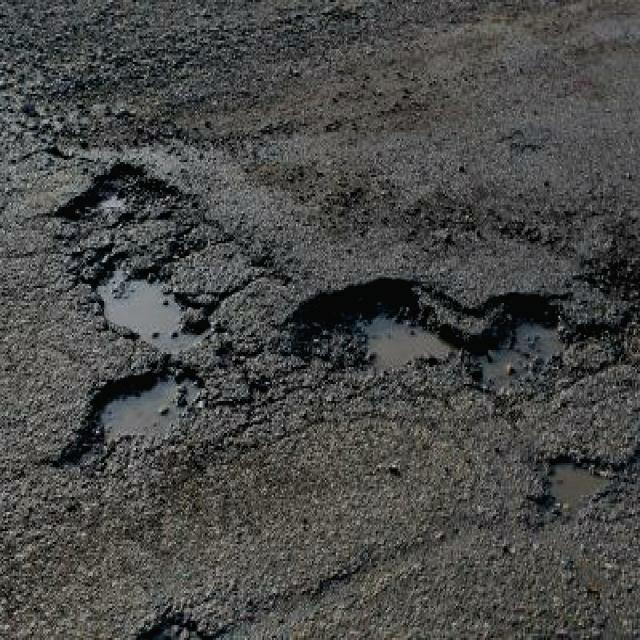Pothole: (286, 271, 466, 386), (62, 361, 211, 471), (88, 252, 226, 348), (466, 286, 576, 403), (53, 158, 179, 233), (530, 446, 614, 523), (131, 608, 214, 638)
